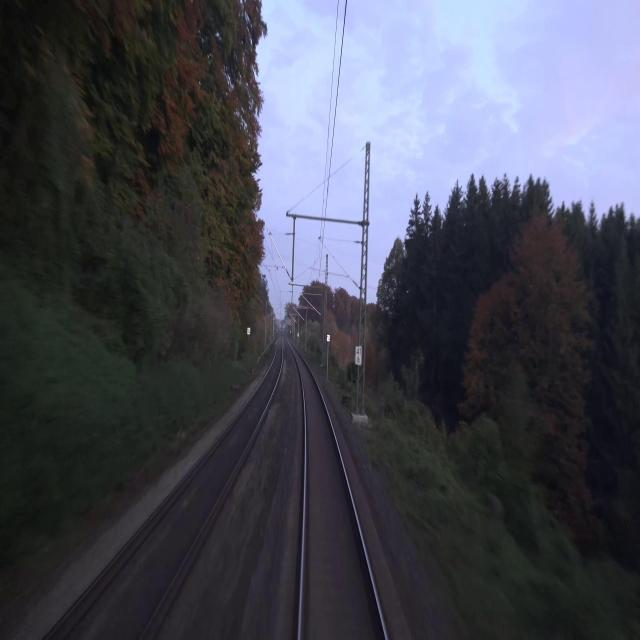rail-track: (48, 340, 280, 639), (293, 349, 384, 639)
